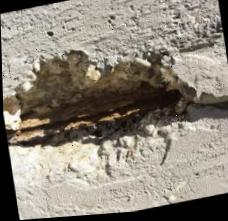exposed_rebar: (6, 91, 181, 143)
spalling: (3, 49, 196, 178)
